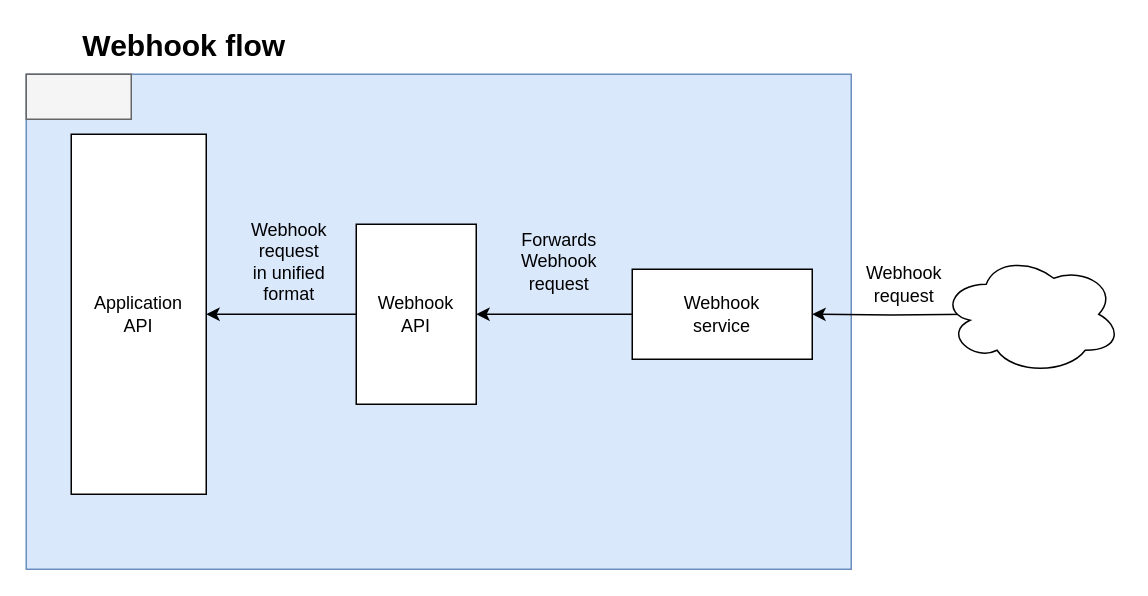
Image size: 1148x596. Some labels were removed from this diagram. Here are the shapes that lost their labels. From the top down, the centre of each, then its label:
At (78,96): "Application host".
At (1030,313): "Git Webhook service".
